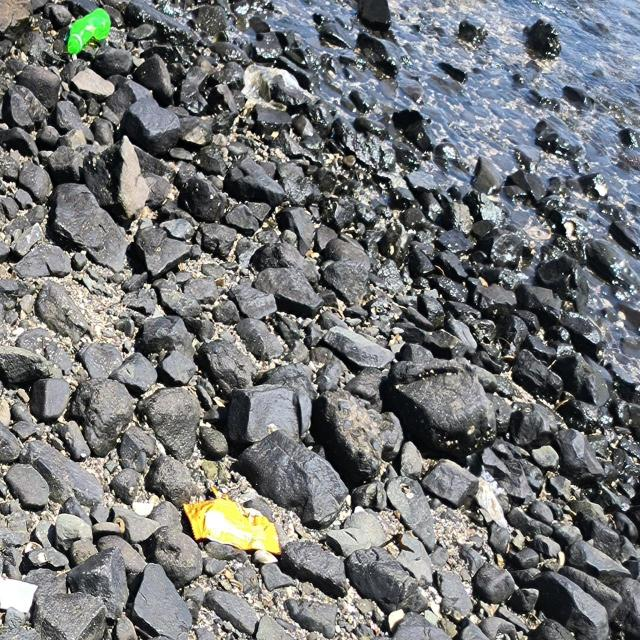litter: (182, 484, 282, 556), (67, 7, 111, 55)
